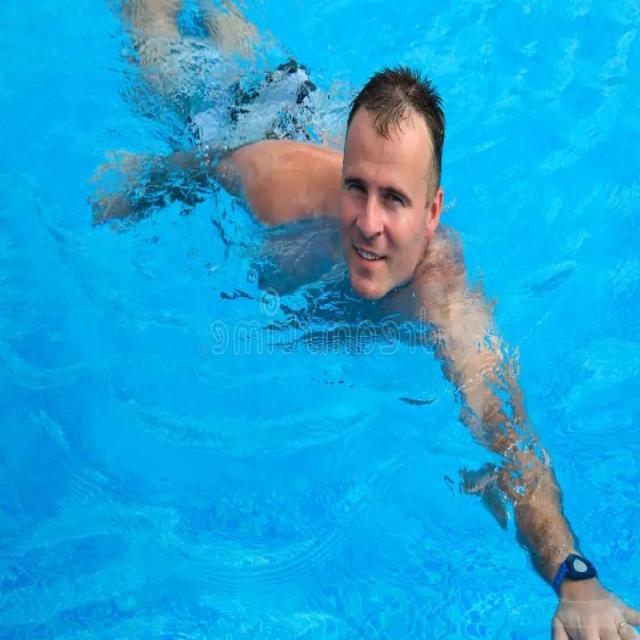swimming: (81, 75, 489, 488)
